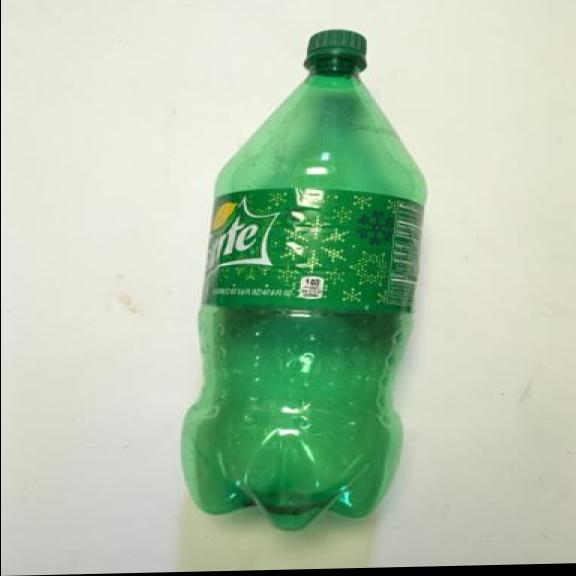Plastik: (166, 20, 435, 542)
